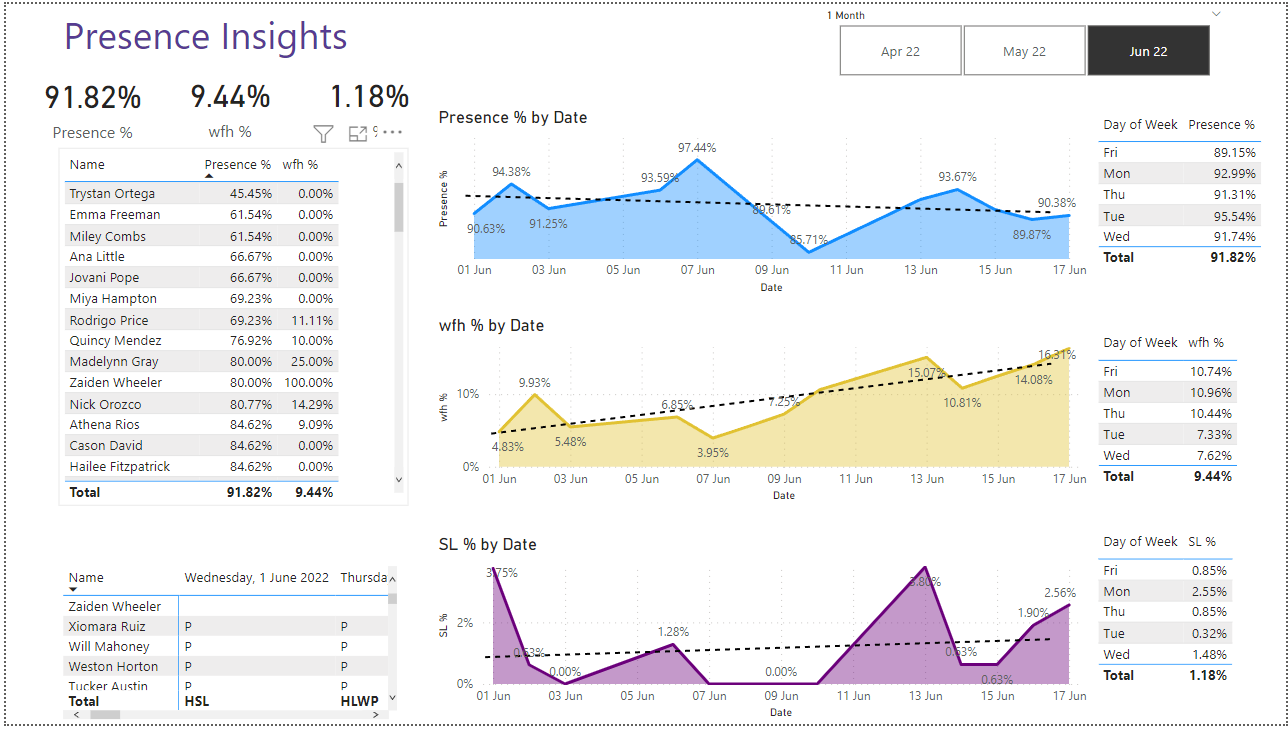

The page's visual inventory and layout, read from the dashboard file:
{"tool":"powerbi","page":{"name":"HR Overview","canvas":[1280,720],"ordinal":0},"visuals":[{"type":"slicer","fields":{"Values":["Final Data.1 Month"]},"box":[807.7,0,420.3,78.3],"z":0},{"type":"card","fields":{"Values":["Present Days.Presence %"]},"box":[0,58.2,173.3,85.5],"z":1000},{"type":"card","fields":{"Values":["Present Days.wfh %"]},"box":[141.2,58.2,166.2,84.3],"z":2000},{"type":"card","fields":{"Values":["Present Days.SL %"]},"box":[299.1,58.2,128.2,84.3],"z":3000},{"type":"tableEx","fields":{"Values":["Final Data.Name","Present Days.Presence %","Present Days.wfh %"]},"box":[52.5,143.8,350,358.8],"z":4000},{"type":"pivotTable","fields":{"Rows":["Final Data.Name"],"Values":["Min(Final Data.Value)"],"Columns":["Final Data.Date"]},"box":[52.5,557.5,343.8,162.5],"z":5000},{"type":"textbox","box":[52.5,0,427.5,62.5],"z":6000},{"type":"areaChart","fields":{"Category":["Final Data.Date"],"Y":["Present Days.Presence %"]},"box":[427.3,102.1,658.8,191.1],"z":7000},{"type":"areaChart","fields":{"Category":["Final Data.Date"],"Y":["Present Days.wfh %"]},"box":[427.3,311,658.8,191.1],"z":8000},{"type":"areaChart","fields":{"Category":["Final Data.Date"],"Y":["Present Days.SL %"]},"box":[427.3,530.6,658.8,189.9],"z":9000},{"type":"tableEx","fields":{"Values":["Final Data.Day of Week","Present Days.Presence %"]},"box":[1086.1,103.3,175.7,191.1],"z":10000},{"type":"tableEx","fields":{"Values":["Final Data.Day of Week","Present Days.wfh %"]},"box":[1086.1,322.9,175.7,199.4],"z":11000},{"type":"tableEx","fields":{"Values":["Final Data.Day of Week","Present Days.SL %"]},"box":[1086.1,521.1,175.7,199.4],"z":12000}]}

Visuals, with their boxes in screenshot pixels (x1, y1, x2, y2), scaled from the page's 1280x720 canvas onto the 1288x746 screenshot:
slicer - Final Data.1 Month: x1=813 y1=0 x2=1236 y2=81
card - Present Days.Presence %: x1=0 y1=60 x2=174 y2=149
card - Present Days.wfh %: x1=142 y1=60 x2=309 y2=148
card - Present Days.SL %: x1=301 y1=60 x2=430 y2=148
tableEx - Final Data.Name x Present Days.Presence %: x1=53 y1=149 x2=405 y2=521
pivotTable - Final Data.Name x Min(Final Data.Value): x1=53 y1=578 x2=399 y2=745
textbox: x1=53 y1=0 x2=483 y2=65
areaChart - Final Data.Date x Present Days.Presence %: x1=430 y1=106 x2=1093 y2=304
areaChart - Final Data.Date x Present Days.wfh %: x1=430 y1=322 x2=1093 y2=520
areaChart - Final Data.Date x Present Days.SL %: x1=430 y1=550 x2=1093 y2=745
tableEx - Final Data.Day of Week x Present Days.Presence %: x1=1093 y1=107 x2=1270 y2=305
tableEx - Final Data.Day of Week x Present Days.wfh %: x1=1093 y1=335 x2=1270 y2=541
tableEx - Final Data.Day of Week x Present Days.SL %: x1=1093 y1=540 x2=1270 y2=745
